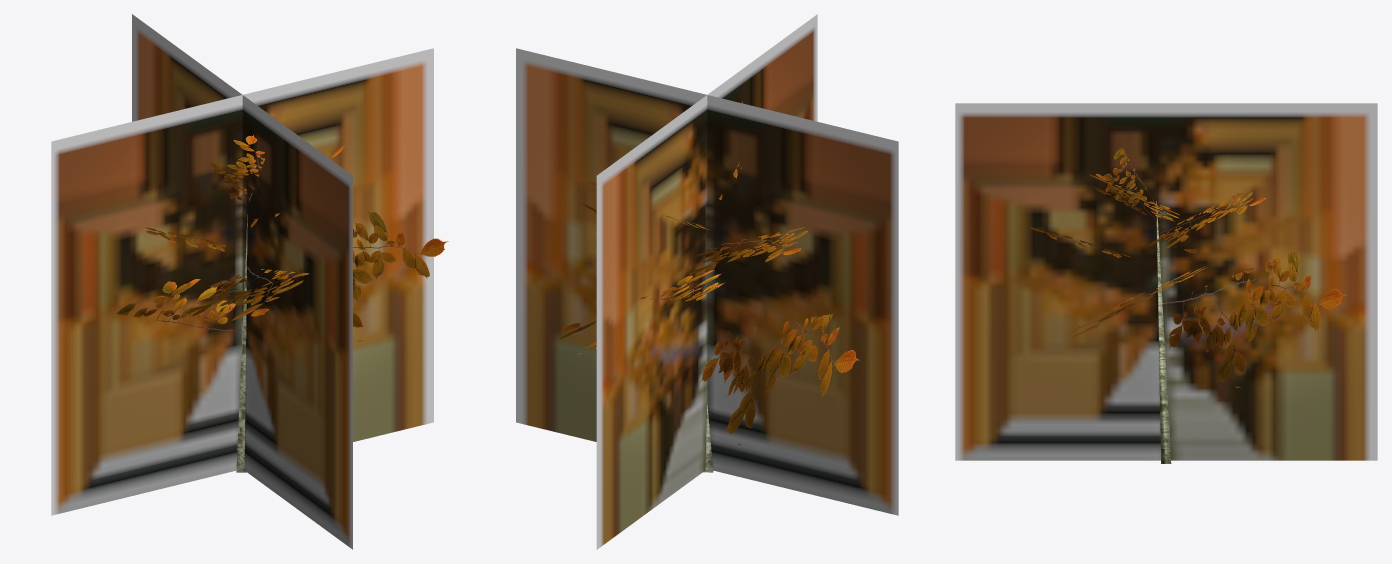
The model's file is Tree-Beech5B-mobile.fbx.
3 renders of one model, left to right at view 1: azimuth 30°, elevation 25°; view 2: azimuth 150°, elevation 25°; view 3: azimuth 270°, elevation 25°, orthographic. The views are drawn at different scales.
Parts seen in each view (by area): view 1: Billboard-BeechB, Tree-Beech5B-mobile_LOD0; view 2: Billboard-BeechB, Tree-Beech5B-mobile_LOD0; view 3: Billboard-BeechB, Tree-Beech5B-mobile_LOD0.
Boxes of the visible parts, x1=… form: Billboard-BeechB: x1=51, y1=14, x2=433, y2=549; Tree-Beech5B-mobile_LOD0: x1=117, y1=135, x2=448, y2=472; Billboard-BeechB: x1=516, y1=14, x2=898, y2=549; Tree-Beech5B-mobile_LOD0: x1=558, y1=101, x2=859, y2=472; Billboard-BeechB: x1=955, y1=103, x2=1377, y2=460; Tree-Beech5B-mobile_LOD0: x1=1030, y1=147, x2=1346, y2=463.
Size of what is drawn, in the model's own units: 709 by 666 by 709.
